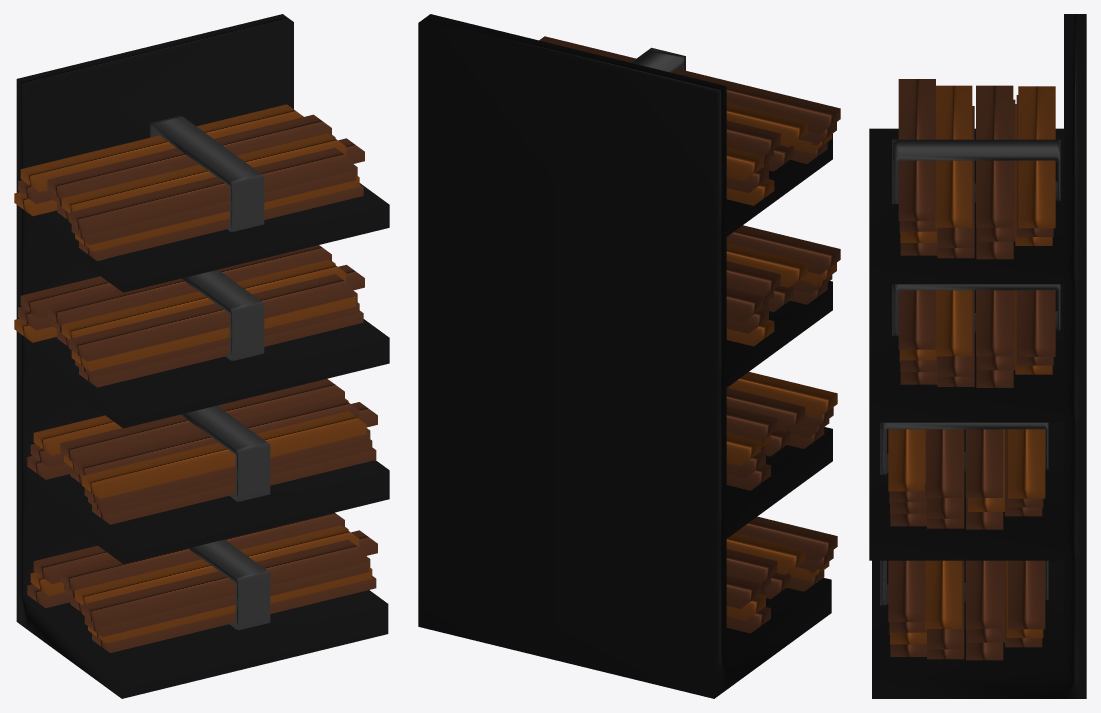
File: odun dolabı.fbx
3 views of the same model, side by side, from view 1: azimuth 30°, elevation 25°; view 2: azimuth 150°, elevation 25°; view 3: azimuth 270°, elevation 25° (orthographic). The views are drawn at different scales.
Visible parts, largest first — view 1: Cube, Cube.001; view 2: Cube, Cube.001; view 3: Cube, Cube.001.
Boxes of the visible parts, <box> form: Cube: <box>16,14,389,698</box>; Cube.001: <box>14,104,372,643</box>; Cube: <box>418,14,840,698</box>; Cube.001: <box>726,102,837,620</box>; Cube: <box>869,14,1086,698</box>; Cube.001: <box>888,85,1055,644</box>.
Size of the model in its own units: 229 by 390 by 139.
